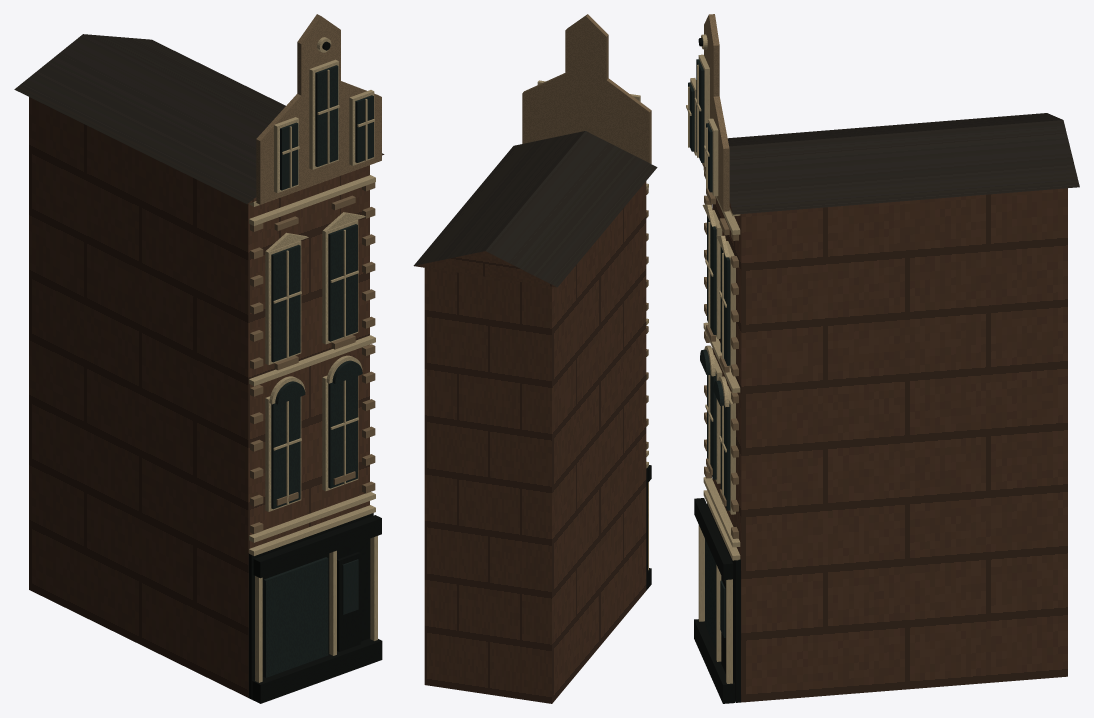
The picture shows the model from 3 angles, left to right: view 1: azimuth 30°, elevation 25°; view 2: azimuth 150°, elevation 25°; view 3: azimuth 270°, elevation 25°; orthographic projection. The views are drawn at different scales.
Parts seen in each view (by area): view 1: bats-noordblaak77-0, bats-noordblaak77-3, bats-noordblaak77-1, bats-noordblaak77-2, bats-noordblaak77-4, bats-noordblaak77-5; view 2: bats-noordblaak77-0, bats-noordblaak77-1, bats-noordblaak77-4; view 3: bats-noordblaak77-0, bats-noordblaak77-1, bats-noordblaak77-2, bats-noordblaak77-3, bats-noordblaak77-4, bats-noordblaak77-5.
Boxes of the visible parts, x1,y1,x2,y2 form: bats-noordblaak77-0: (29, 97, 384, 697); bats-noordblaak77-3: (263, 65, 373, 677); bats-noordblaak77-1: (14, 34, 383, 203); bats-noordblaak77-2: (249, 37, 377, 682); bats-noordblaak77-4: (250, 14, 381, 533); bats-noordblaak77-5: (248, 41, 382, 703); bats-noordblaak77-0: (414, 181, 646, 703); bats-noordblaak77-1: (413, 131, 657, 287); bats-noordblaak77-4: (522, 14, 651, 449); bats-noordblaak77-0: (712, 188, 1067, 702); bats-noordblaak77-1: (727, 113, 1079, 214); bats-noordblaak77-2: (686, 34, 740, 683); bats-noordblaak77-3: (688, 59, 730, 649); bats-noordblaak77-4: (702, 14, 738, 538); bats-noordblaak77-5: (694, 38, 740, 703).
Bounding box in the file's own units: 5.8 × 17.45 × 9.49.
Materials: 6 (6 with a texture image).
